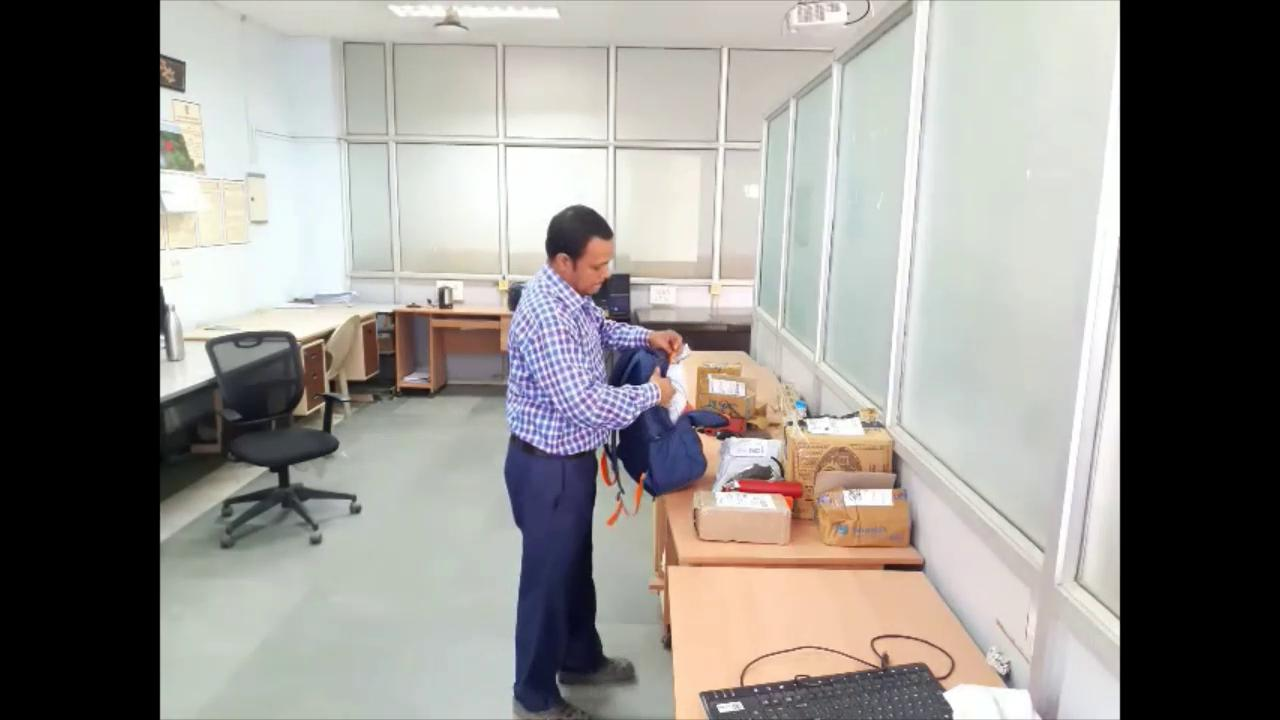shoplifting: (491, 202, 717, 720)
